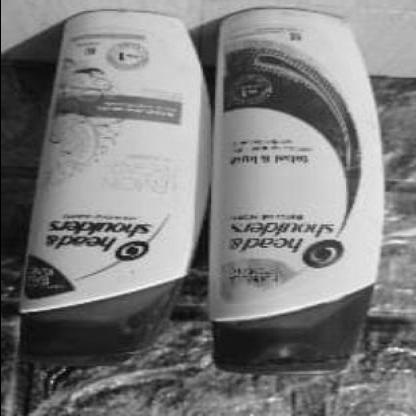objects: (17, 12, 201, 368), (205, 9, 382, 377)
